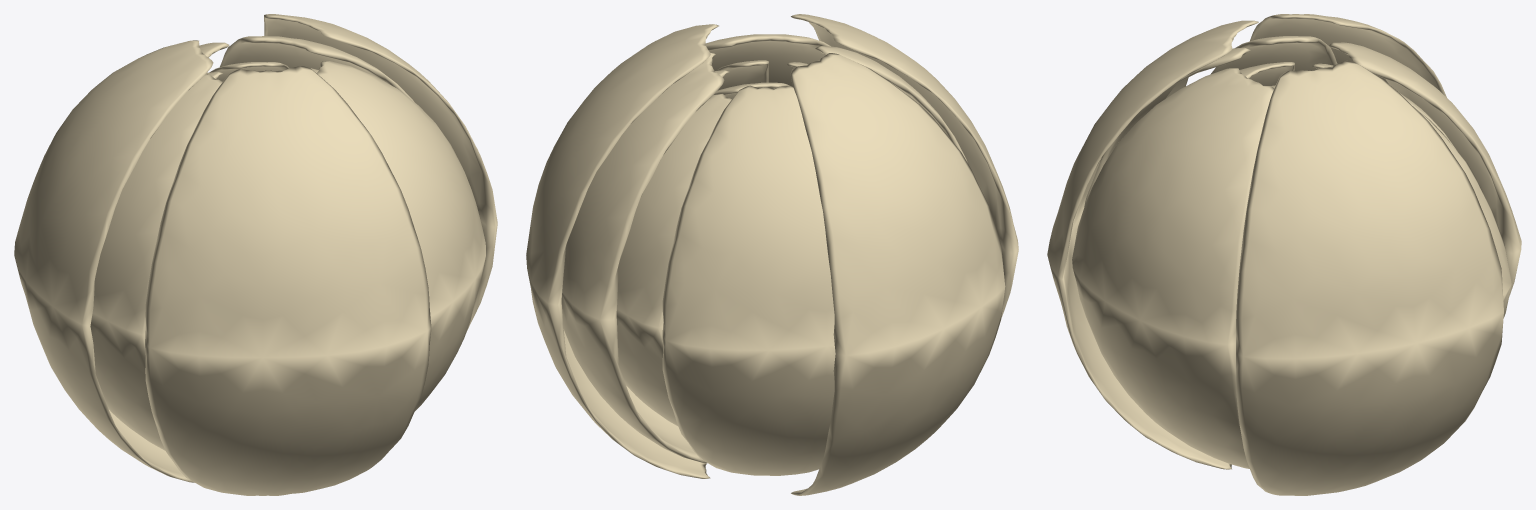
File: Nukleus_Solo.glb
The picture shows the model from 3 angles, left to right: view 1: azimuth 30°, elevation 25°; view 2: azimuth 150°, elevation 25°; view 3: azimuth 270°, elevation 25°; orthographic projection.
Parts seen in each view (by area): view 1: Sphere.019, Sphere.016, Sphere.017; view 2: Sphere.019, Sphere.016, Sphere.017; view 3: Sphere.019, Sphere.016, Sphere.017.
Part boxes in pixels (x1,y1,x2,y2): Sphere.019: [14, 14, 497, 495]; Sphere.016: [90, 36, 485, 450]; Sphere.017: [205, 62, 318, 81]; Sphere.019: [526, 14, 1018, 495]; Sphere.016: [561, 34, 967, 475]; Sphere.017: [616, 60, 807, 425]; Sphere.019: [1047, 14, 1503, 495]; Sphere.016: [1072, 36, 1521, 468]; Sphere.017: [1239, 62, 1457, 151].
Bounding box in the file's own units: 0.5502 × 0.5255 × 0.5345.
